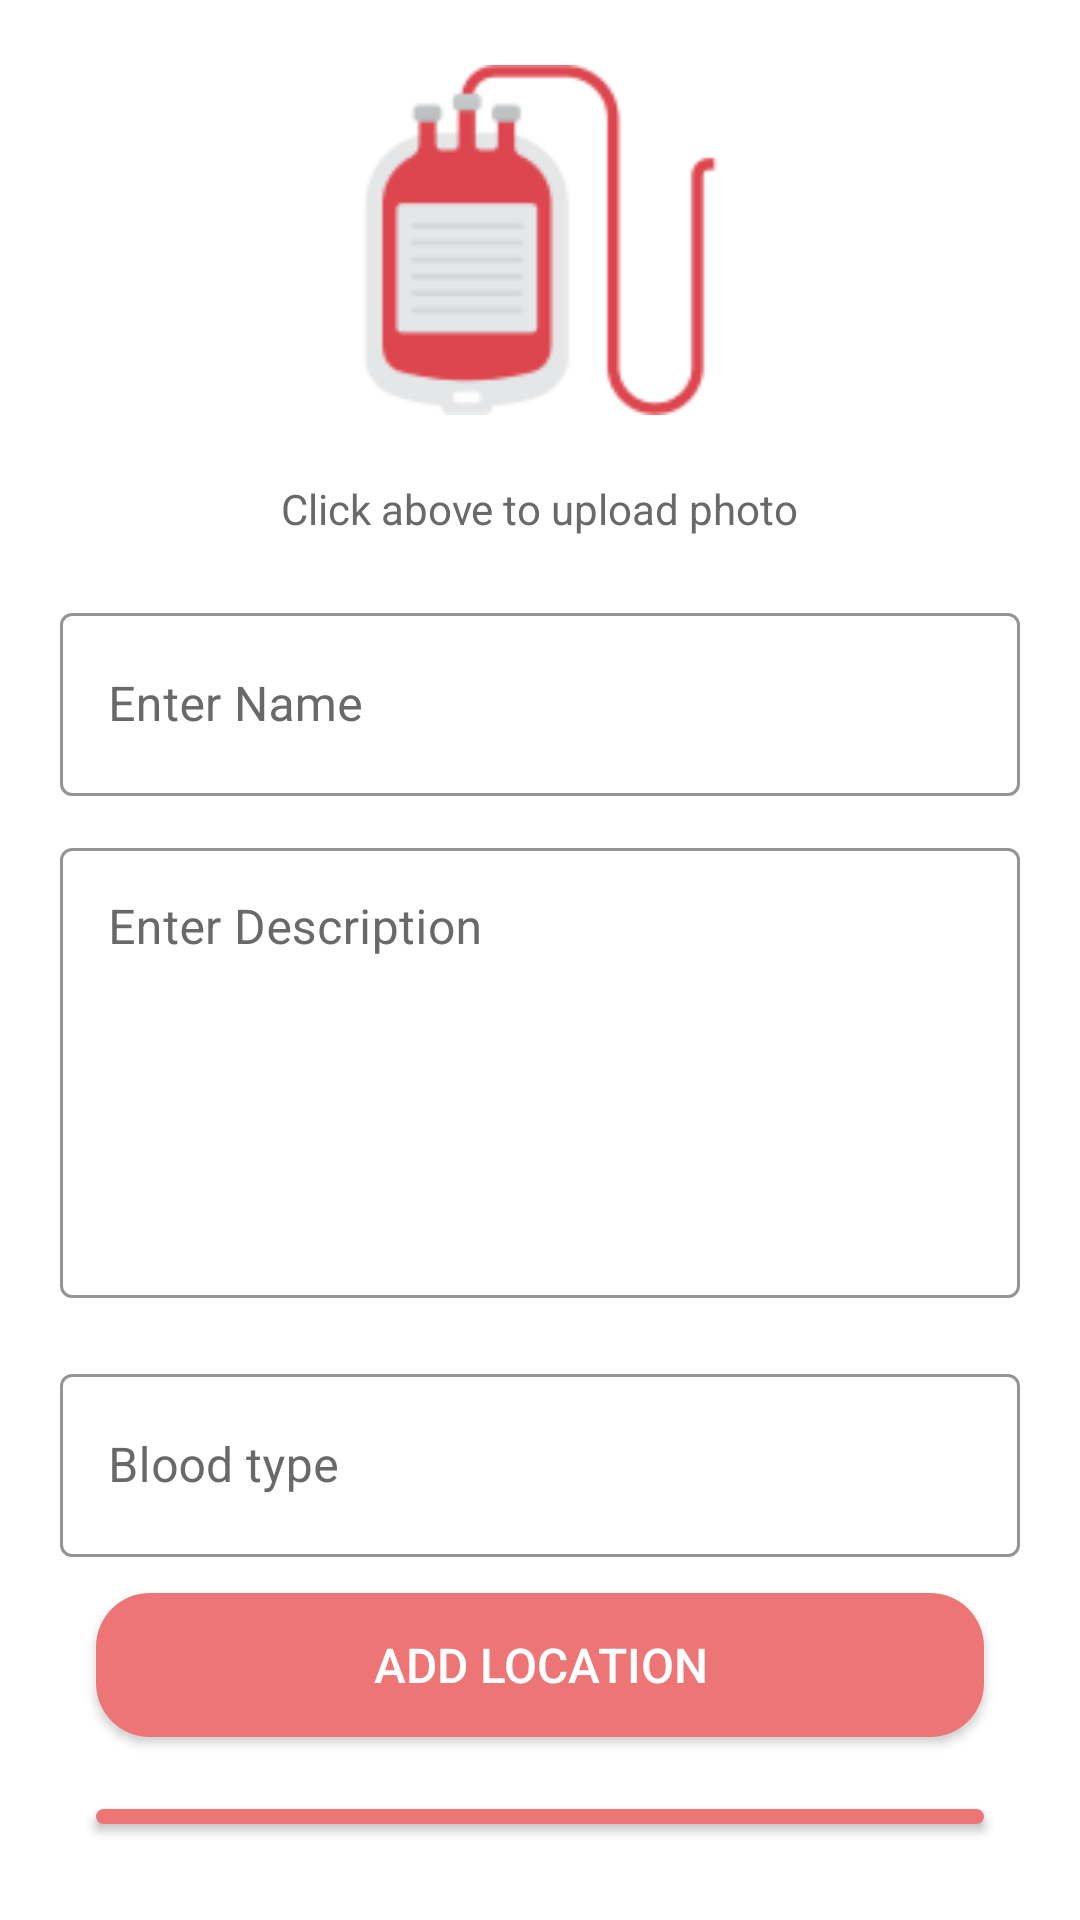

Icon bounding boxes for this 1080w x 1920h phone screenshot, format bbox=(x1, y1, x2, y2):
blood: bbox=(368, 65, 717, 415)
